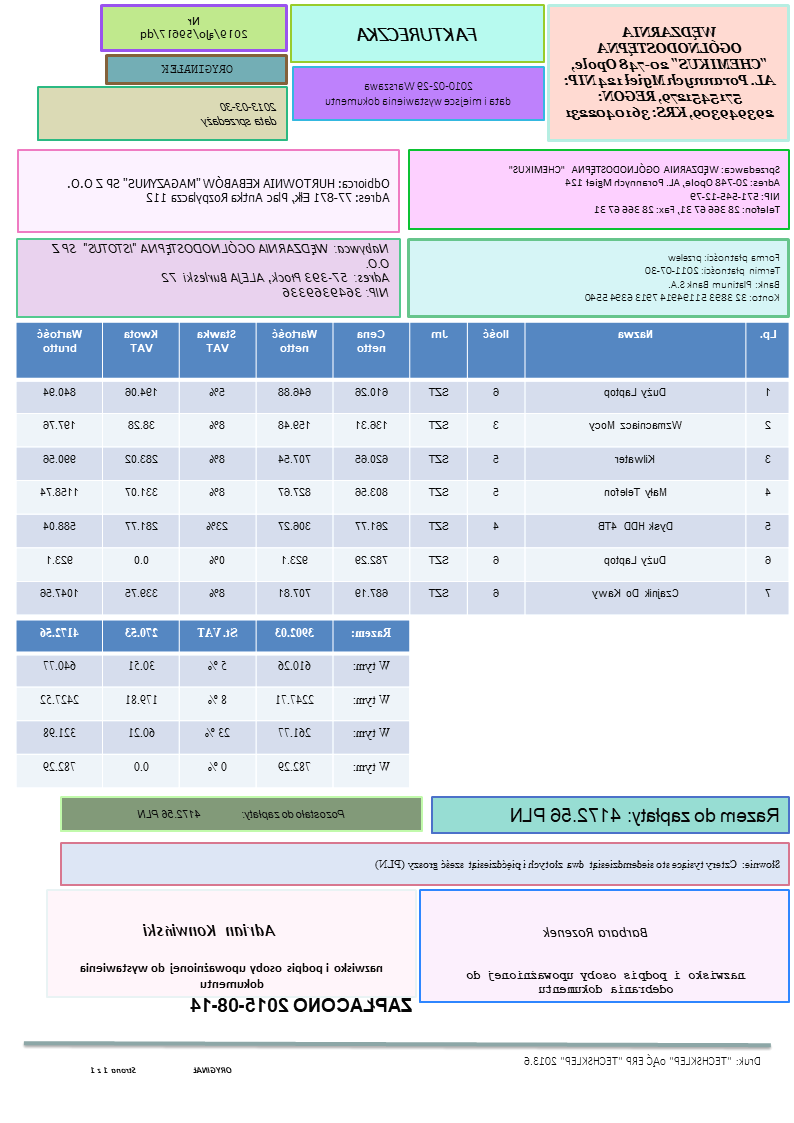Table: (14, 321, 792, 618), (14, 618, 412, 790)
TextBox: (560, 24, 779, 124), (49, 238, 393, 301), (505, 161, 784, 219), (65, 173, 393, 208), (585, 249, 782, 304), (74, 958, 386, 990), (463, 964, 747, 997), (373, 855, 783, 874), (508, 802, 781, 828), (323, 76, 515, 110), (190, 992, 416, 1016), (519, 1050, 765, 1069), (136, 805, 349, 824), (137, 13, 250, 43), (198, 96, 280, 131), (355, 22, 481, 44), (141, 921, 279, 940), (87, 1061, 234, 1077), (538, 923, 652, 941), (158, 59, 237, 76)
